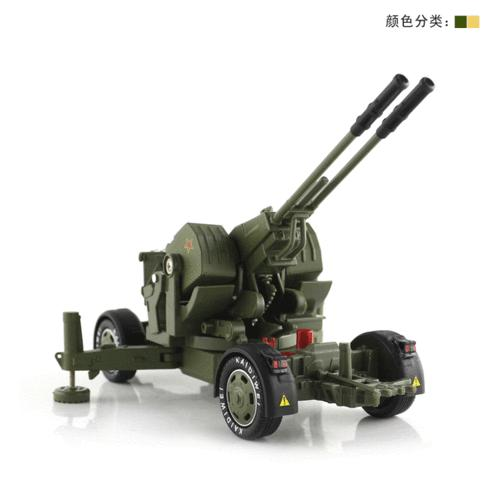MIL_SPG: (57, 75, 434, 439)
